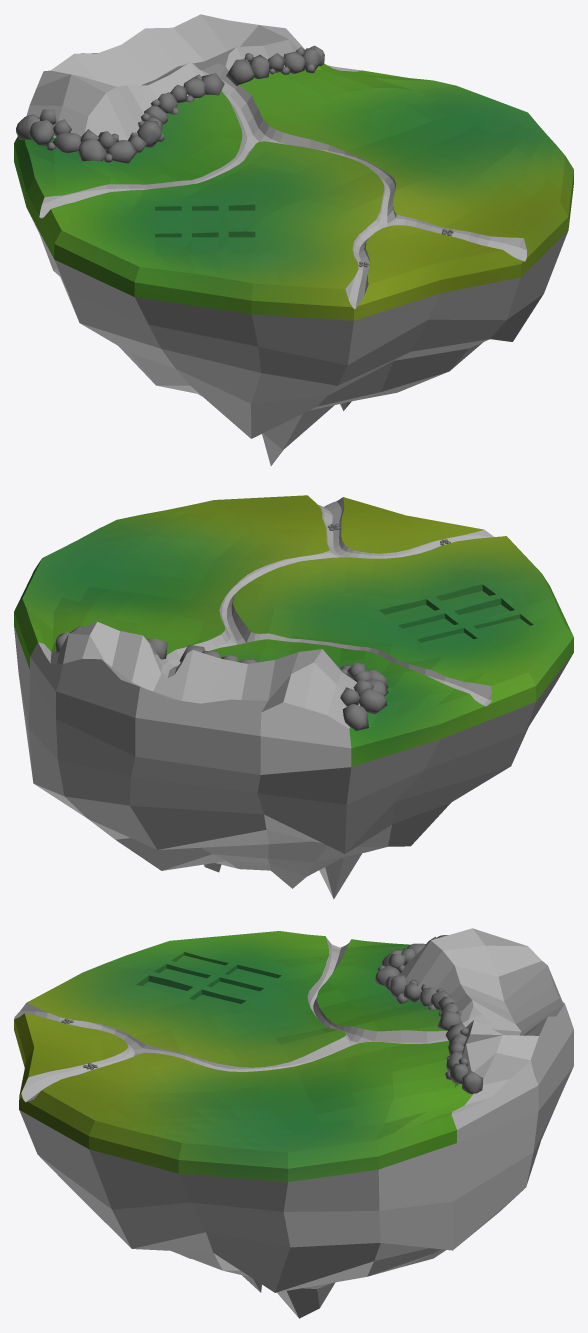
Rendered from Islandbezwody 1.fbx.
3 renders of one model, top to bottom at view 1: azimuth 30°, elevation 25°; view 2: azimuth 150°, elevation 25°; view 3: azimuth 270°, elevation 25°, orthographic. The views are drawn at different scales.
Visible parts, largest first — view 1: Top_Island_without_mod.001; view 2: Top_Island_without_mod.001; view 3: Top_Island_without_mod.001.
Part boxes in pixels (bbox=[...]): Top_Island_without_mod.001: bbox=[14, 14, 573, 465]; Top_Island_without_mod.001: bbox=[14, 495, 573, 899]; Top_Island_without_mod.001: bbox=[14, 928, 573, 1318].
Size of the model in its own units: 16768 by 11023 by 17356.
